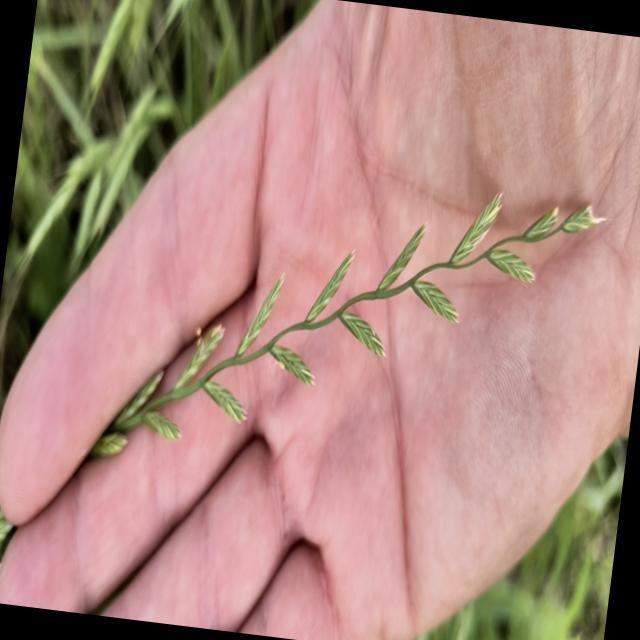Lolium: (0, 120, 614, 640)
